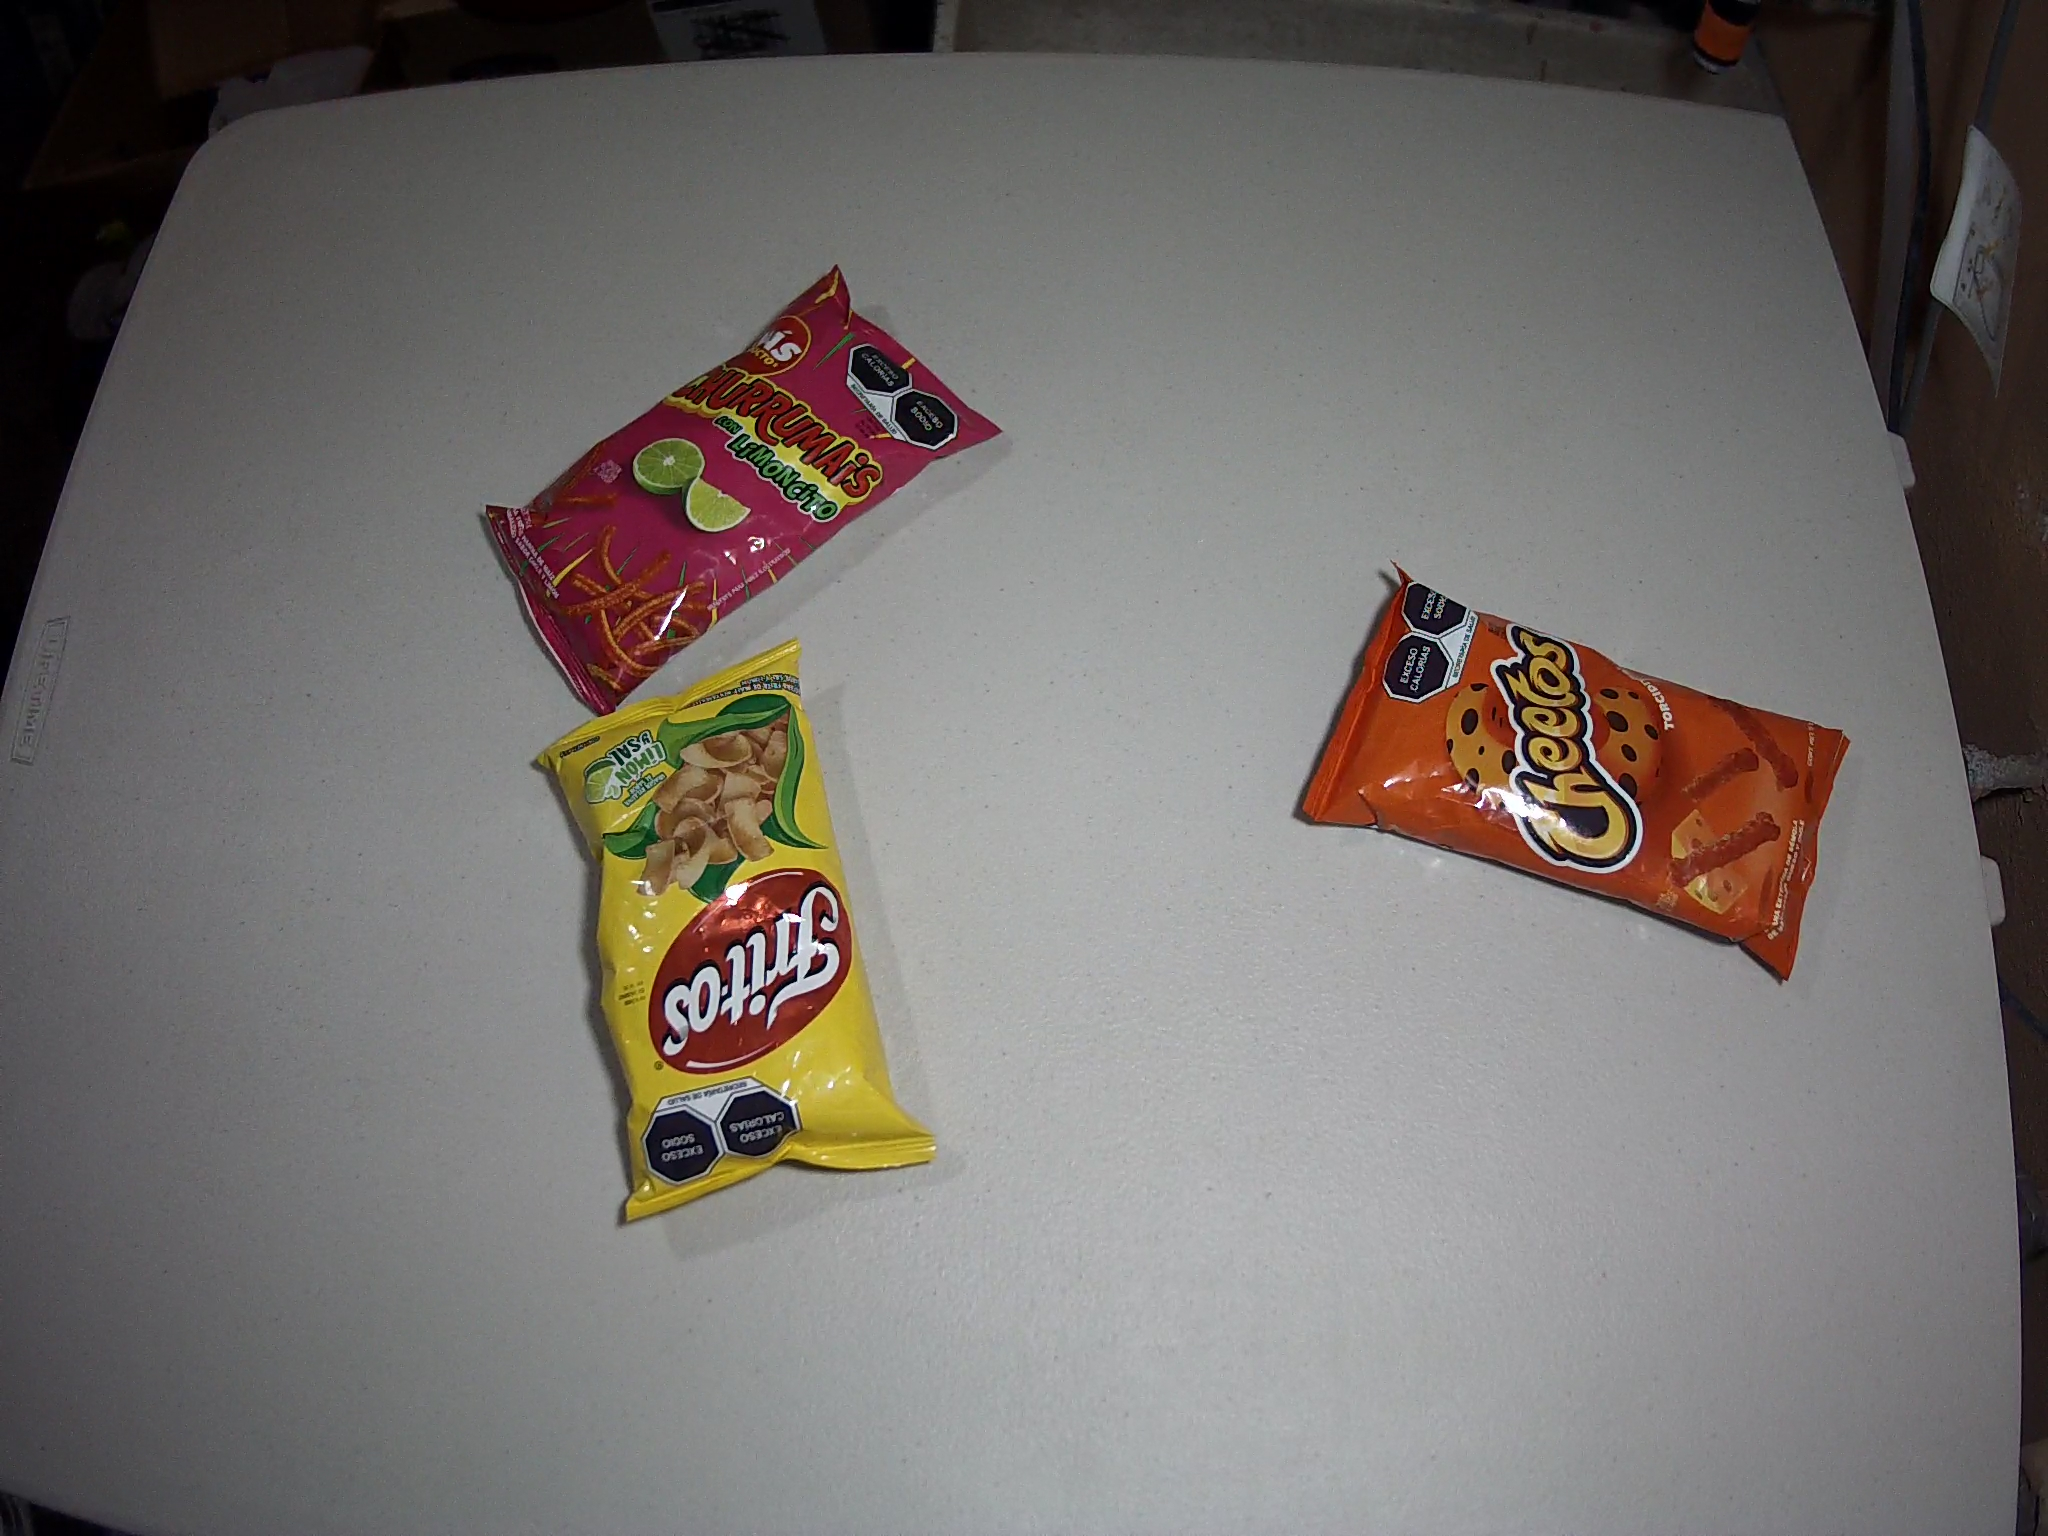CheetosTorciditos_55_F: (1300, 557, 1854, 986)
Churrumais_70_F: (484, 263, 1001, 724)
FritosSalLimon_65_F: (531, 639, 939, 1223)
